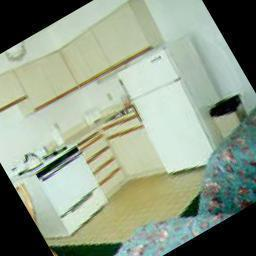Bote de Basura: (206, 93, 252, 136)
Electrodomestico: (114, 48, 224, 179), (16, 136, 114, 241)
